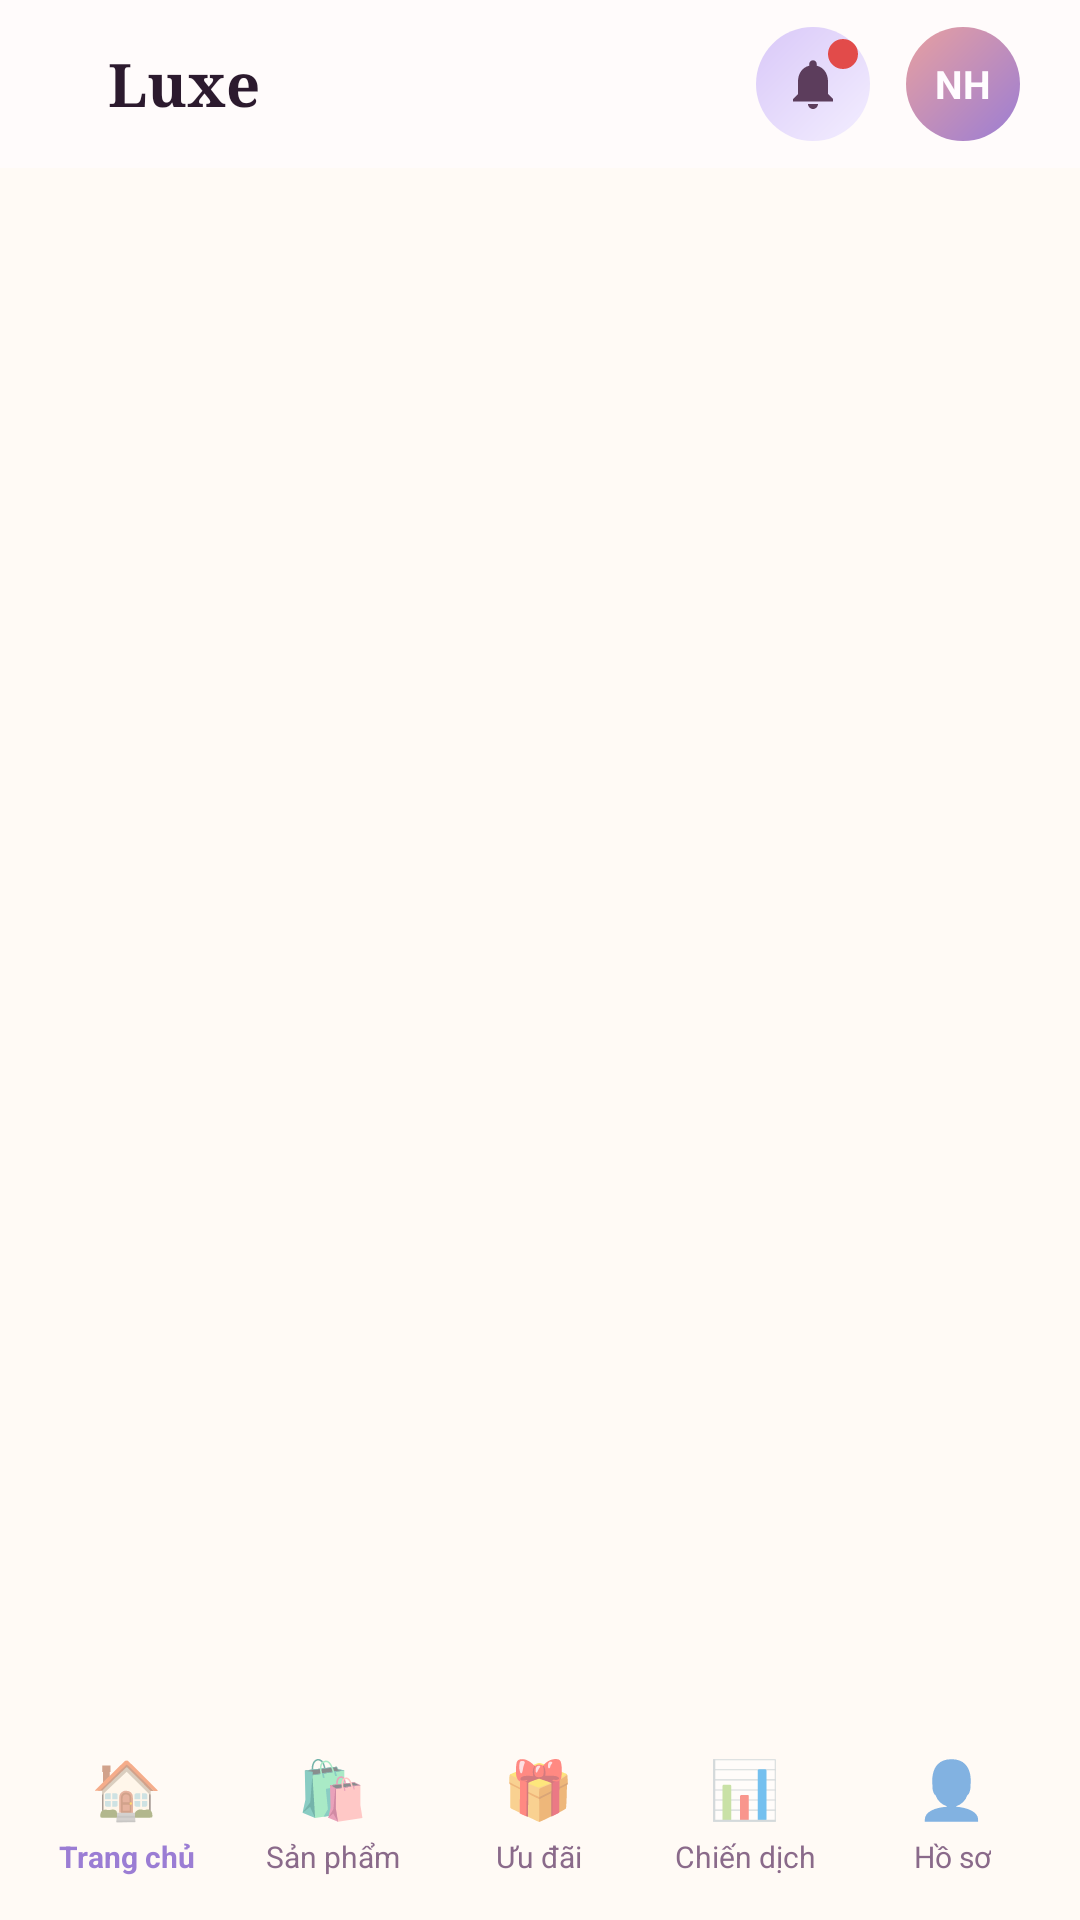

Icon bounding boxes for this 1080 x 1920 phone screenshot, format (x1, y1, x2, y2):
bell: (756, 27, 868, 139)
